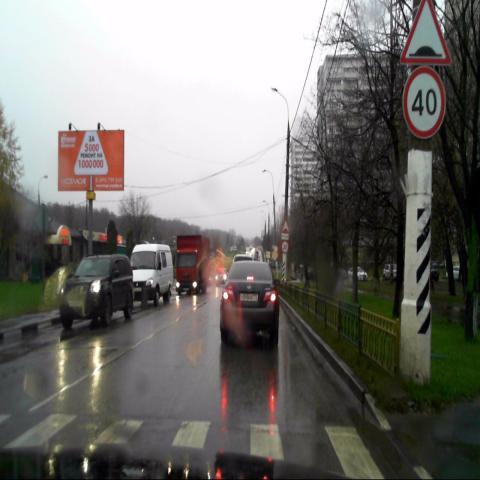3_24: (403, 66, 445, 139)
